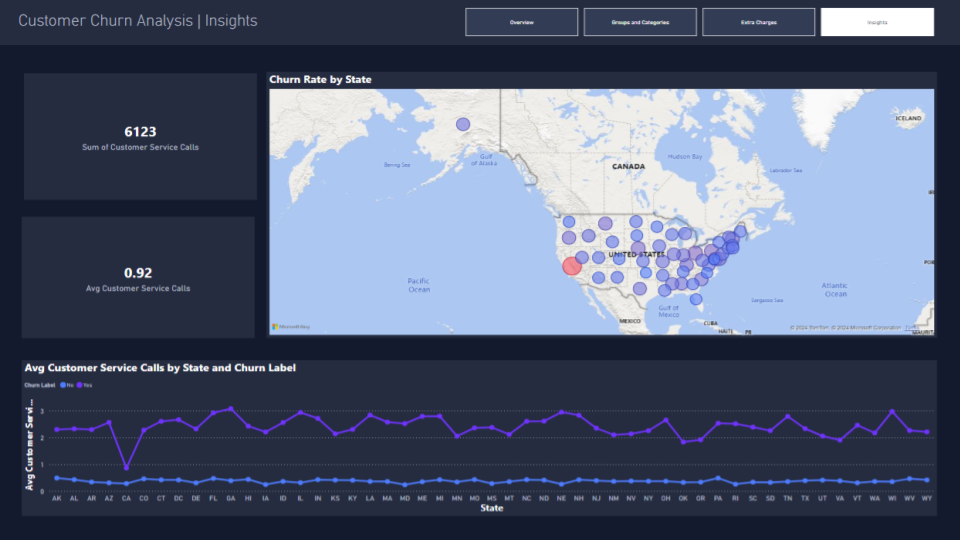

What the dashboard file says about the page in this screenshot:
{"tool":"powerbi","page":{"name":"Insights","canvas":[1640,960],"ordinal":3},"visuals":[{"type":"group","id":"g1","title":"Group 1","box":[39.9,130.6,1560.1,786.7],"z":0},{"type":"card","fields":{"Values":["Sum(Databel - Data.Customer Service Calls)"]},"box":[44.1,133.4,397.2,223.6],"z":0,"group":"g1"},{"type":"shape","box":[0,0,1640.2,83.1],"z":1000},{"type":"card","fields":{"Values":["_Measures.Avg Customer Service Calls"]},"box":[40.3,386.8,397.2,215],"z":1000,"group":"g1"},{"type":"textbox","box":[29.2,16.7,525,56.9],"z":2000},{"type":"lineChart","fields":{"Y":["_Measures.Avg Customer Service Calls"],"Category":["Databel - Data.State"],"Series":["Databel - Data.Churn Label"]},"box":[39.9,640.9,1559.7,276.4],"z":2000,"group":"g1"},{"type":"pageNavigator","box":[795.8,16.7,800,50],"z":3000},{"type":"map","fields":{"Category":["Databel - Data.State"],"Size":["_Measures.Churn Rate"]},"box":[457,130.6,1143.1,470.8],"z":3000,"group":"g1"}]}

Visuals, with their boxes on the page's 1640x960 design canvas (x1, y1, x2, y2). These are canvas units, not pixel positions in the 960x540 screenshot, which may show the page scaled, cropped or inside an application window:
"Group 1" group: l=40, t=131, r=1600, b=917
card - Sum(Databel - Data.Customer Service Calls): l=44, t=133, r=441, b=357
shape: l=0, t=0, r=1640, b=83
card - _Measures.Avg Customer Service Calls: l=40, t=387, r=438, b=602
textbox: l=29, t=17, r=554, b=74
lineChart - _Measures.Avg Customer Service Calls x Databel - Data.State: l=40, t=641, r=1600, b=917
pageNavigator: l=796, t=17, r=1596, b=67
map - Databel - Data.State x _Measures.Churn Rate: l=457, t=131, r=1600, b=601
